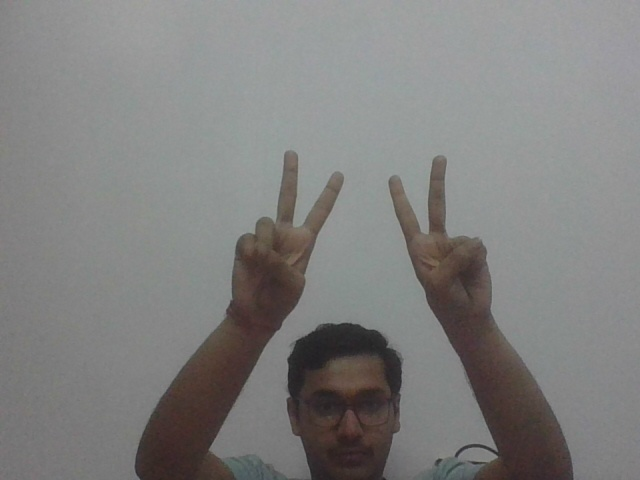V: (227, 148, 346, 326), (386, 152, 495, 313)
